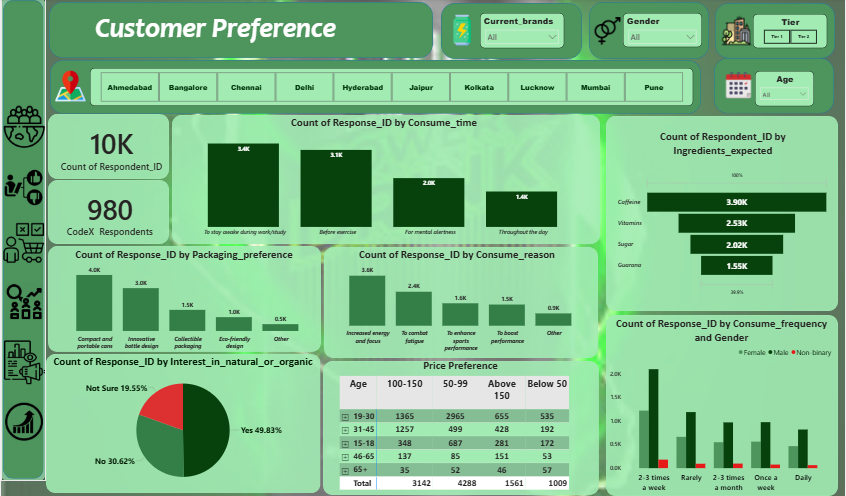

Layout of this report page (visuals, bound fields, positions):
{"tool":"powerbi","page":{"name":"Customer Preference","canvas":[2450,1450],"ordinal":1},"visuals":[{"type":"shape","box":[139.2,11.6,1113.6,162.4],"z":0},{"type":"shape","box":[142,180,1888,156],"z":1000},{"type":"shape","box":[0,0,129.2,1400],"z":2000},{"type":"shape","box":[2066.9,174,348,160.8],"z":3000},{"type":"shape","box":[1276,14.5,408.9,162.4],"z":4000},{"type":"shape","box":[2069.5,13.2,348,160.8],"z":5000},{"type":"shape","box":[1705.2,11.6,348,165.3],"z":6000},{"type":"shape","box":[136.3,336.4,350.9,188.5],"z":7000},{"type":"shape","box":[136.3,527.8,350.9,185.6],"z":8000},{"type":"shape","box":[495.9,339.3,1241.2,374.1],"z":9000},{"type":"shape","box":[131.8,1033.5,796.2,403.4],"z":10000},{"type":"shape","box":[1754.5,342.2,672.8,565.5],"z":11000},{"type":"shape","box":[136.3,719.2,791.7,307.4],"z":12000},{"type":"shape","box":[936.7,722.1,794.6,321.9],"z":13000},{"type":"shape","box":[933.8,1052.7,800.4,388.6],"z":14000},{"type":"shape","box":[1754.5,919.3,672.8,524.9],"z":15000},{"type":"pieChart","fields":{"Y":["CountNonNull(fact_survey_responses.Response_ID)"],"Category":["fact_survey_responses.Interest_in_natural_or_organic"]},"box":[133.4,1035.3,788.8,397.3],"z":16000},{"type":"clusteredColumnChart","fields":{"Category":["fact_survey_responses.Consume_reason"],"Y":["CountNonNull(fact_survey_responses.Response_ID)"]},"box":[928,725,788.8,307.4],"z":17000},{"type":"columnChart","fields":{"Category":["fact_survey_responses.Packaging_preference"],"Y":["CountNonNull(fact_survey_responses.Response_ID)"]},"box":[136.3,725,788.8,301.6],"z":18000},{"type":"clusteredColumnChart","fields":{"Series":["dim_repondents.Gender"],"Y":["CountNonNull(fact_survey_responses.Response_ID)"],"Category":["fact_survey_responses.Consume_frequency"]},"box":[1760.3,925.1,658.3,513.3],"z":19000},{"type":"pivotTable","title":"Price Preference ","fields":{"Values":["CountNonNull(dim_repondents.Respondent_ID)"],"Rows":["dim_repondents.Age","dim_repondents.Gender"],"Columns":["fact_survey_responses.Price_range"]},"box":[977.3,1046.9,710.5,397.3],"z":20000},{"type":"card","fields":{"Values":["CountNonNull(dim_repondents.Respondent_ID)"]},"box":[156,356,328,158],"z":21000},{"type":"card","fields":{"Values":["dim_repondents.Count of Respondent_ID for CodeX"]},"box":[148,544,336,162],"z":22000},{"type":"slicer","fields":{"Values":["dim_cities.City"]},"box":[258.1,203,1748.7,110.2],"z":23000},{"type":"slicer","title":"Age","fields":{"Values":["dim_repondents.Age"]},"box":[2186.6,211.7,171.1,101.5],"z":24000},{"type":"slicer","title":"Tier","fields":{"Values":["dim_cities.Tier"]},"box":[2180.8,46.4,214.6,98.6],"z":25000},{"type":"slicer","title":"Gender","fields":{"Values":["dim_repondents.Gender"]},"box":[1803.8,43.5,229.1,98.6],"z":26000},{"type":"slicer","title":"Current_brands","fields":{"Values":["fact_survey_responses.Current_brands"]},"box":[1389.1,43.5,243.6,101.5],"z":27000},{"type":"textbox","box":[232,31.9,780.1,124.7],"z":28000},{"type":"funnel","fields":{"Category":["fact_survey_responses.Ingredients_expected"],"Y":["CountNonNull(fact_survey_responses.Respondent_ID)"]},"box":[1784,382,620,524],"z":29000},{"type":"clusteredColumnChart","fields":{"Y":["CountNonNull(fact_survey_responses.Response_ID)"],"Category":["fact_survey_responses.Consume_time"]},"box":[487.2,342.2,1247,356.7],"z":30000},{"type":"image","box":[0,817.6,134.4,126],"z":31000},{"type":"image","box":[2.8,1167.6,128.8,120.4],"z":32000},{"type":"image","box":[1287.6,40.6,98.6,104.4],"z":33000},{"type":"image","box":[2085.1,43.5,95.7,101.5],"z":34000},{"type":"image","box":[1713.9,49.3,89.9,92.8],"z":35000},{"type":"image","box":[2094,206,90,94],"z":36000},{"type":"image","box":[150.8,205.9,101.5,98.6],"z":37000},{"type":"image","box":[2.8,308,128.8,131.6],"z":38000},{"type":"image","box":[0,487.2,130.5,124.7],"z":39000},{"type":"image","box":[0,643.8,130.5,133.4],"z":40000},{"type":"image","box":[0,985.6,137.2,140],"z":41000}]}

Visuals, with their boxes in screenshot pixels (x1, y1, x2, y2), scaled from the page's 2450x1450 canvas onto the 846x496 screenshot:
shape: (48, 4, 433, 60)
shape: (49, 62, 701, 115)
shape: (0, 0, 45, 479)
shape: (714, 60, 834, 115)
shape: (441, 5, 582, 61)
shape: (715, 5, 835, 60)
shape: (589, 4, 709, 61)
shape: (47, 115, 168, 180)
shape: (47, 181, 168, 244)
shape: (171, 116, 600, 244)
shape: (46, 354, 320, 492)
shape: (606, 117, 838, 310)
shape: (47, 246, 320, 351)
shape: (323, 247, 598, 357)
shape: (322, 360, 599, 493)
shape: (606, 314, 838, 494)
pieChart - CountNonNull(fact_survey_responses.Response_ID) x fact_survey_responses.Interest_in_natural_or_organic: (46, 354, 318, 490)
clusteredColumnChart - fact_survey_responses.Consume_reason x CountNonNull(fact_survey_responses.Response_ID): (320, 248, 593, 353)
columnChart - fact_survey_responses.Packaging_preference x CountNonNull(fact_survey_responses.Response_ID): (47, 248, 319, 351)
clusteredColumnChart - dim_repondents.Gender x CountNonNull(fact_survey_responses.Response_ID): (608, 316, 835, 492)
"Price Preference " pivotTable: (337, 358, 583, 494)
card - CountNonNull(dim_repondents.Respondent_ID): (54, 122, 167, 176)
card - dim_repondents.Count of Respondent_ID for CodeX: (51, 186, 167, 242)
slicer - dim_cities.City: (89, 69, 693, 107)
"Age" slicer: (755, 72, 814, 107)
"Tier" slicer: (753, 16, 827, 50)
"Gender" slicer: (623, 15, 702, 49)
"Current_brands" slicer: (480, 15, 564, 50)
textbox: (80, 11, 349, 54)
funnel - fact_survey_responses.Ingredients_expected x CountNonNull(fact_survey_responses.Respondent_ID): (616, 131, 830, 310)
clusteredColumnChart - CountNonNull(fact_survey_responses.Response_ID) x fact_survey_responses.Consume_time: (168, 117, 599, 239)
image: (0, 280, 46, 323)
image: (1, 399, 45, 441)
image: (445, 14, 479, 50)
image: (720, 15, 753, 50)
image: (592, 17, 623, 49)
image: (723, 70, 754, 103)
image: (52, 70, 87, 104)
image: (1, 105, 45, 150)
image: (0, 167, 45, 209)
image: (0, 220, 45, 266)
image: (0, 337, 47, 385)
